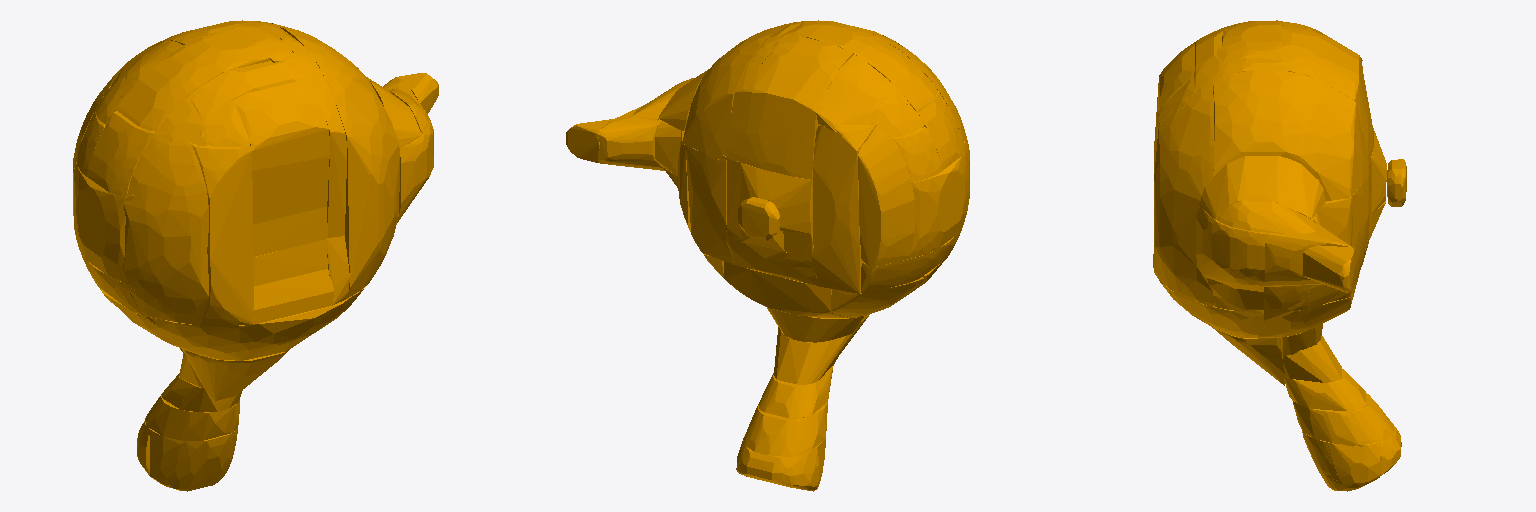
robot.urdf — teapot-white:
<?xml version="1.0" ?>
<robot name="teapot-white">
  <link name="baseLink">
    <contact>
      <lateral_friction value="1.0"/>
      <inertia_scaling value="3.0"/>
    </contact>
    <inertial>
      <origin rpy="0 0 0" xyz="0.000 0.000 0.000"/>
       <mass value=".1"/>
       <inertia ixx="1" ixy="0.0" ixz="0.0" iyy="1" iyz="0.0" izz="1"/>
    </inertial>
    <visual>
      <origin rpy="0 0 0" xyz="0 0 0"/>
      <geometry>
        <mesh filename="teapot/teapot-white_black_line.obj" scale="1.0 1.0 1.0"/>
      </geometry>
    </visual>
    <collision>
      <origin rpy="0 0 0" xyz="0 0 0"/>
      <geometry>
        <mesh filename="../collision/teapot/teapot-white_black_line.obj" scale="1.0 1.0 1.0"/>
      </geometry>
    </collision>
  </link>
</robot>
        

--- What the picture shows (computed from the rendered views, not written in the file) ---
3 views of the same robot in one strip: view 1: azimuth 30°, elevation 25°; view 2: azimuth 150°, elevation 25°; view 3: azimuth 270°, elevation 25° (orthographic).
Robot: teapot-white — 1 links, 0 joints (none); root link baseLink; default pose: all joints at 0.
Links seen in each view (by area): view 1: baseLink; view 2: baseLink; view 3: baseLink.
Boxes of the visible links, x1,y1,x2,y2 form: baseLink: [73, 20, 438, 491]; baseLink: [566, 20, 969, 491]; baseLink: [1153, 20, 1406, 491].
Size in the robot's own frame: 0.1418 by 0.0858 by 0.1667 metres.
1 mesh visuals loaded from 1 distinct referenced files (1 OBJ).